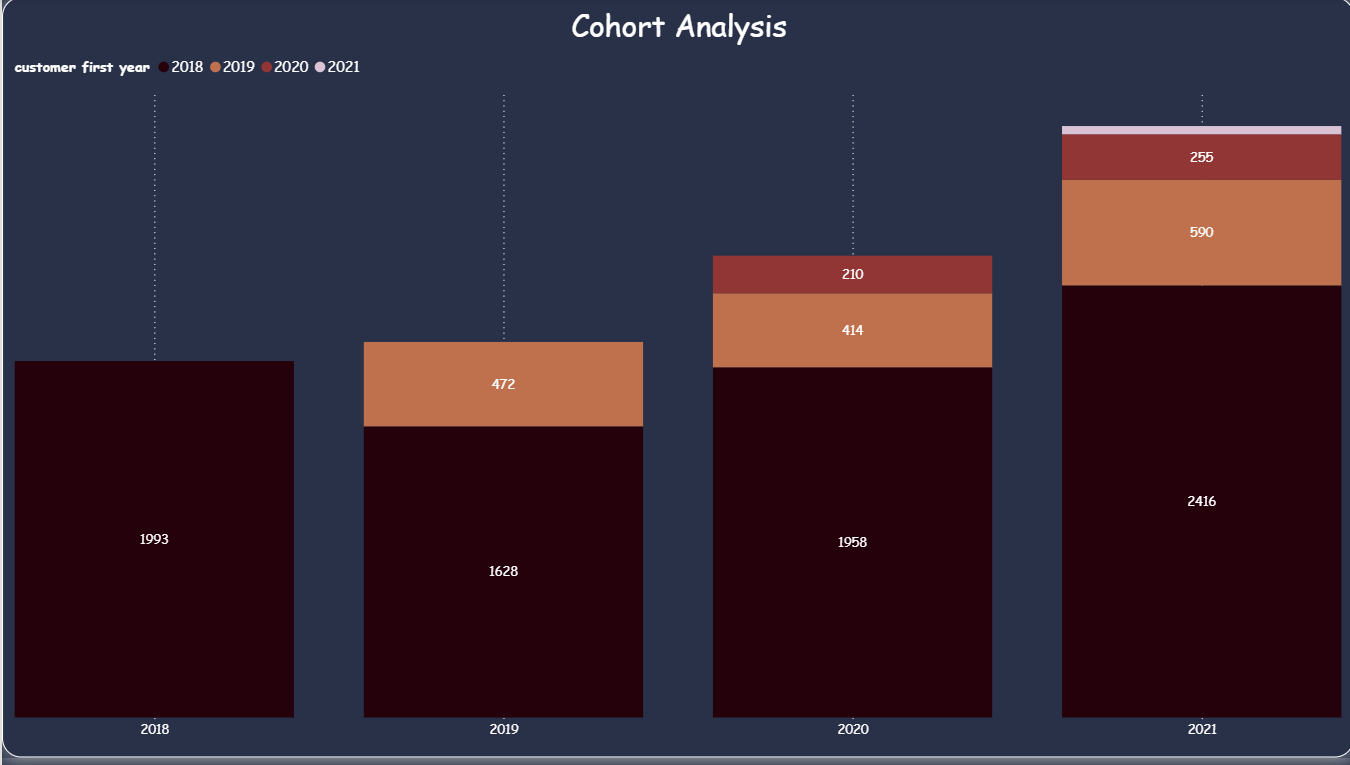

The dashboard page shown, as its layout file describes it:
{"tool":"powerbi","page":{"name":"Cohort","canvas":[1280,720],"ordinal":4},"visuals":[{"type":"columnChart","title":"Cohort Analysis","fields":{"Category":["calendar.Date.Variation.Date Hierarchy.Year"],"Series":["customers1.customer first year"],"Y":["CountNonNull(sales22.customer_id)"]},"box":[0,0,1280,720],"z":0}]}

Visuals, with their boxes in screenshot pixels (x1, y1, x2, y2), scaled from the page's 1280x720 canvas onto the 1350x765 screenshot:
"Cohort Analysis" columnChart: [x1=0, y1=0, x2=1349, y2=764]
